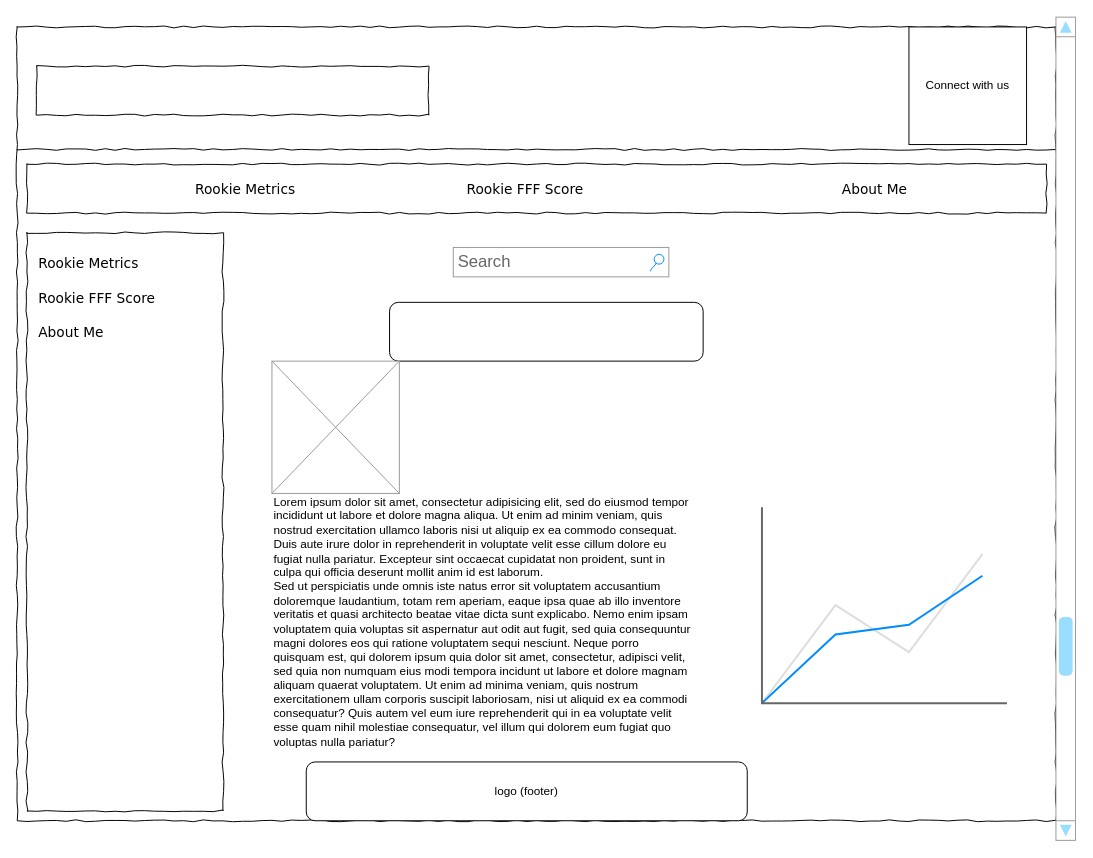
The diagram is 1093 pixels wide and 858 high, and some of its shapes have lost their labels. The shapes that lost their labels are listed below. From the top down, each one's box as (x1, y1, x2, y2) in pixels, then its label:
(36, 65, 429, 115): Farfan Fantasy Football
(389, 301, 703, 361): Player Profile Page
